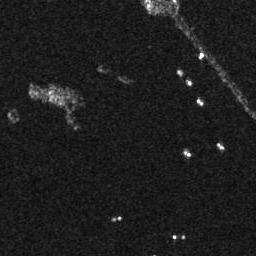ship: (184, 149, 193, 158), (216, 141, 225, 150), (196, 98, 205, 106), (177, 68, 184, 76), (199, 52, 204, 61), (187, 79, 192, 86)
